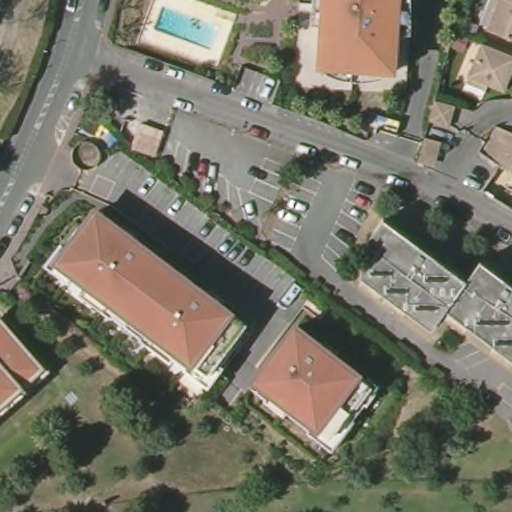pool: (154, 5, 220, 53)
